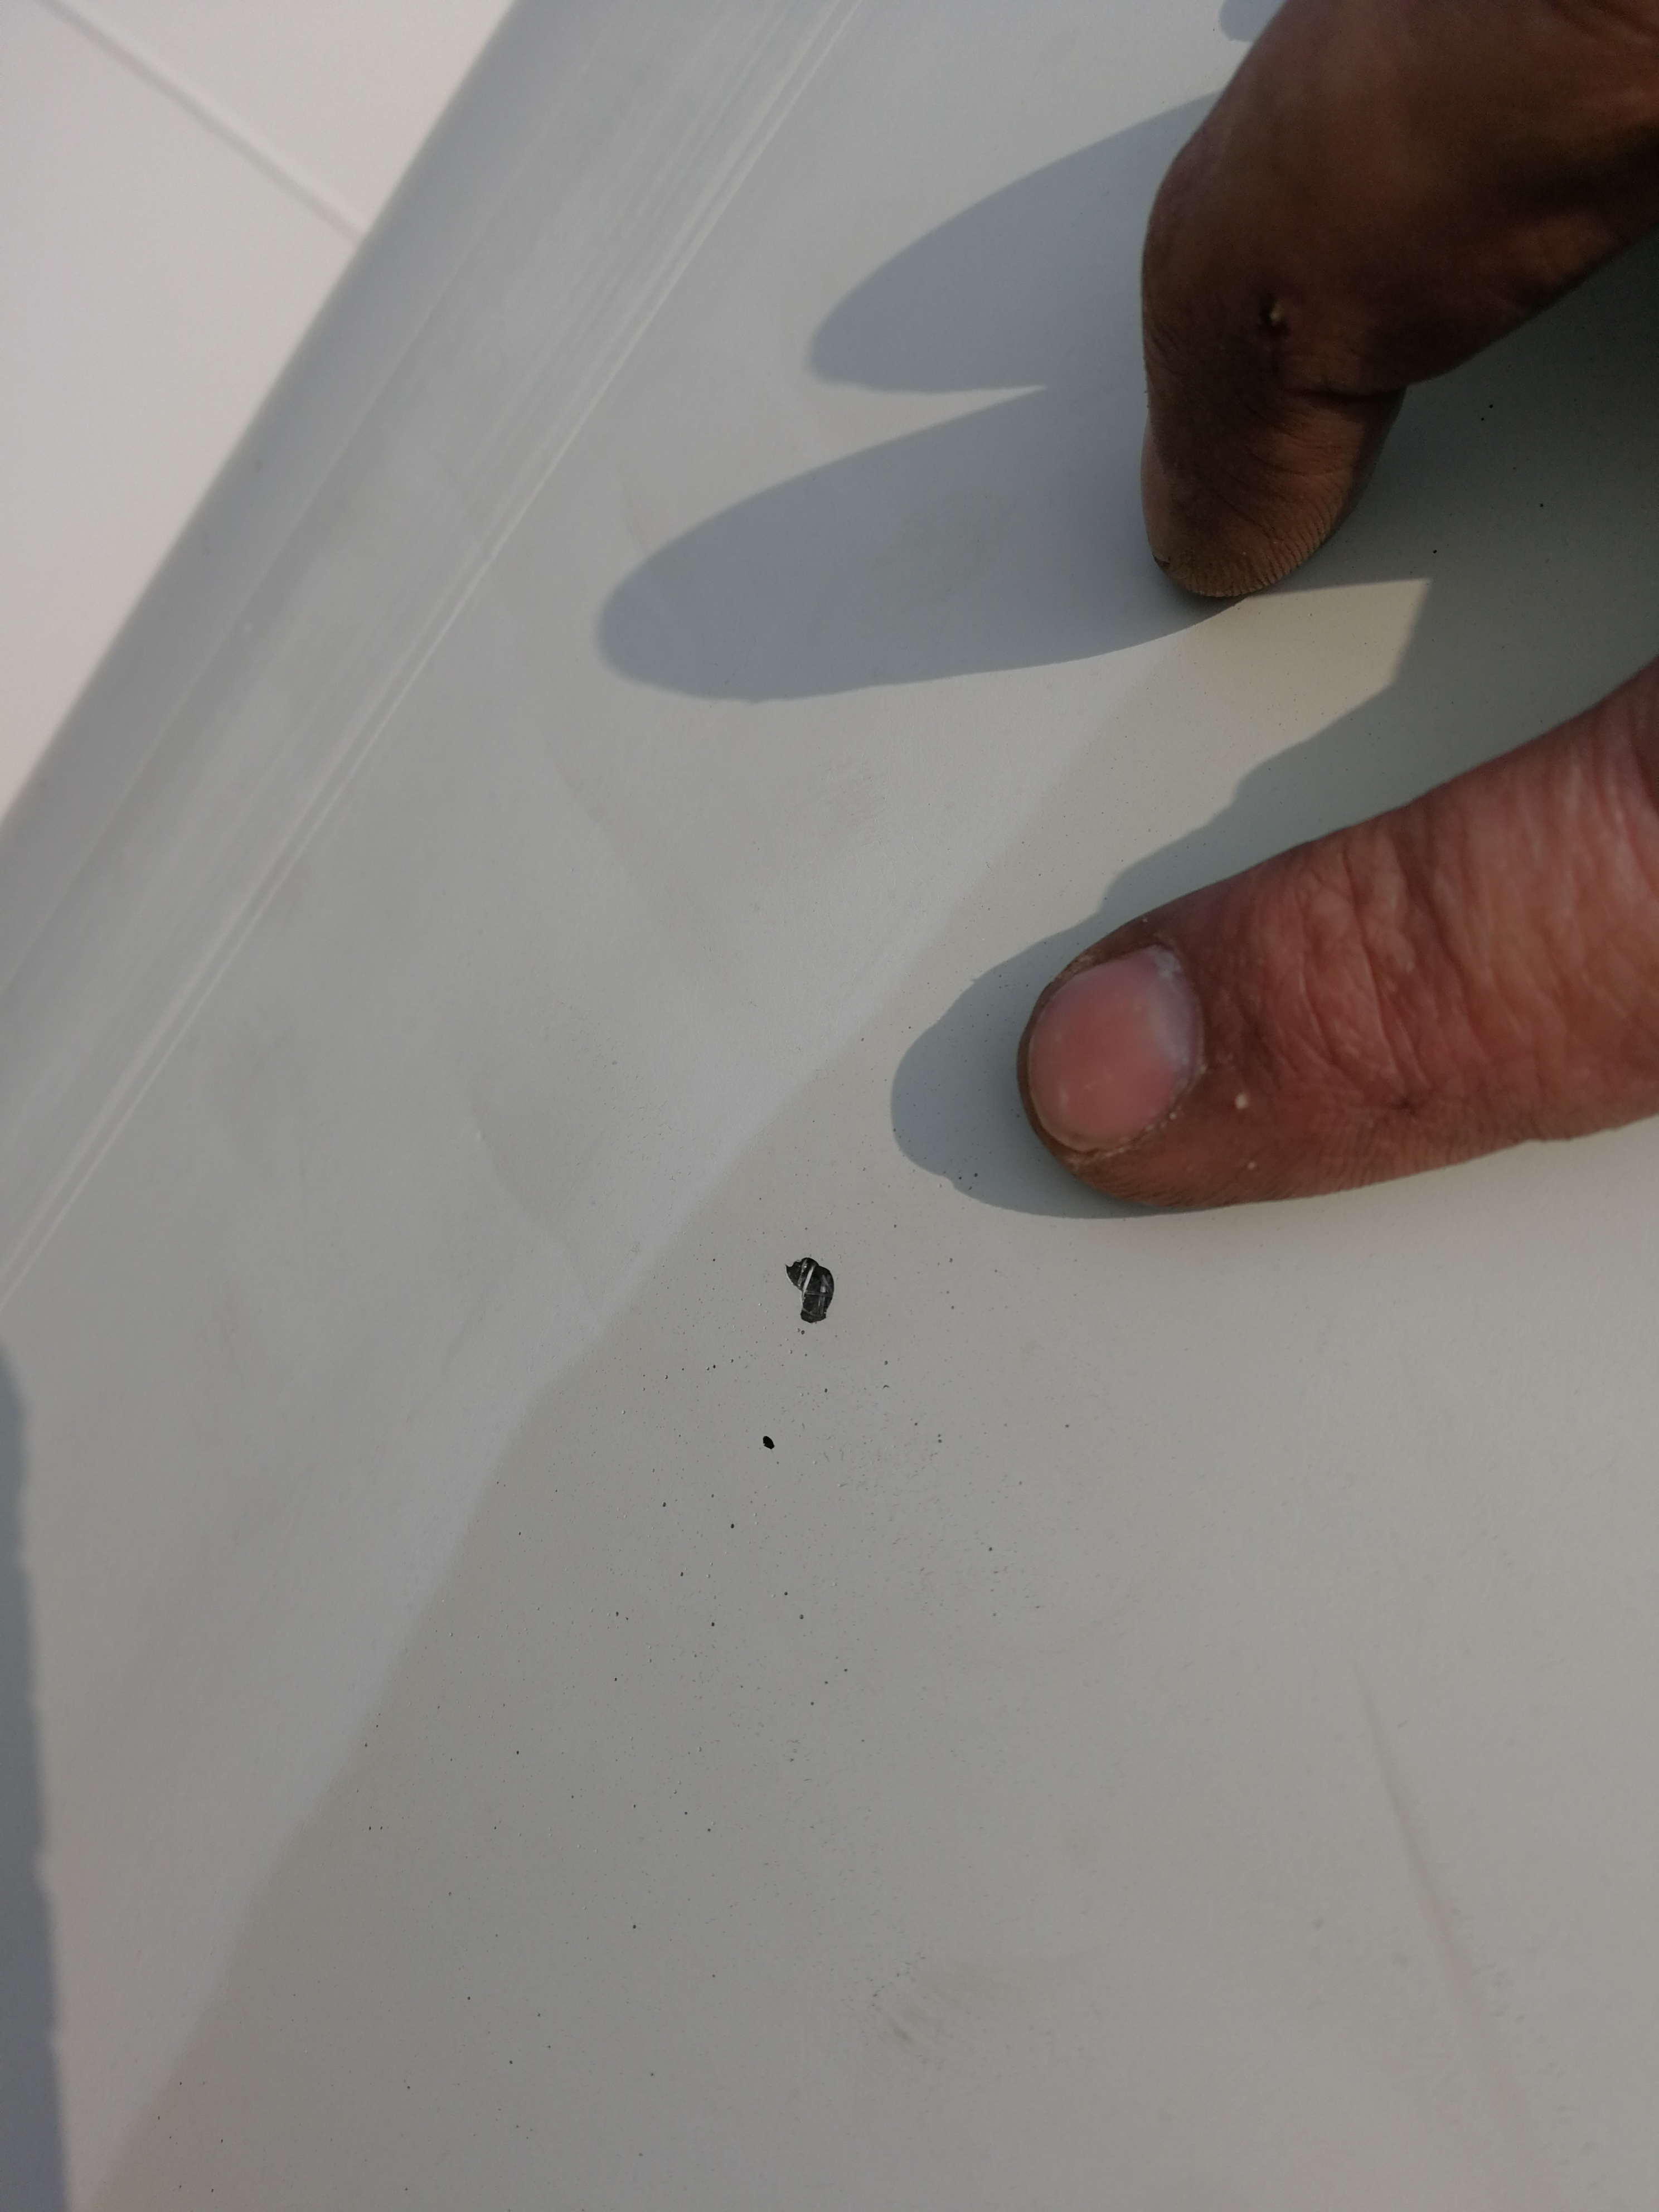SD: (767, 1240, 845, 1343)
